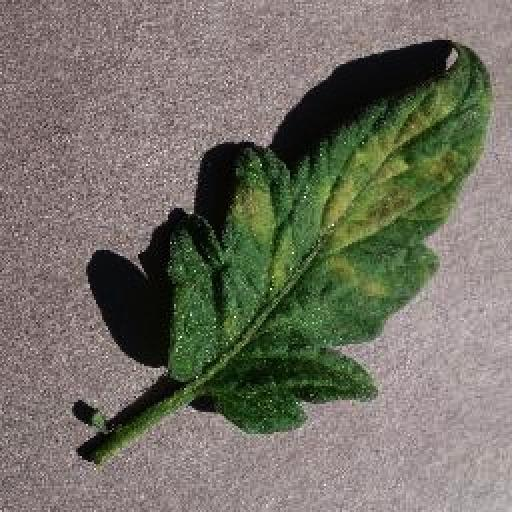disease_tomato: (170, 41, 491, 435)
